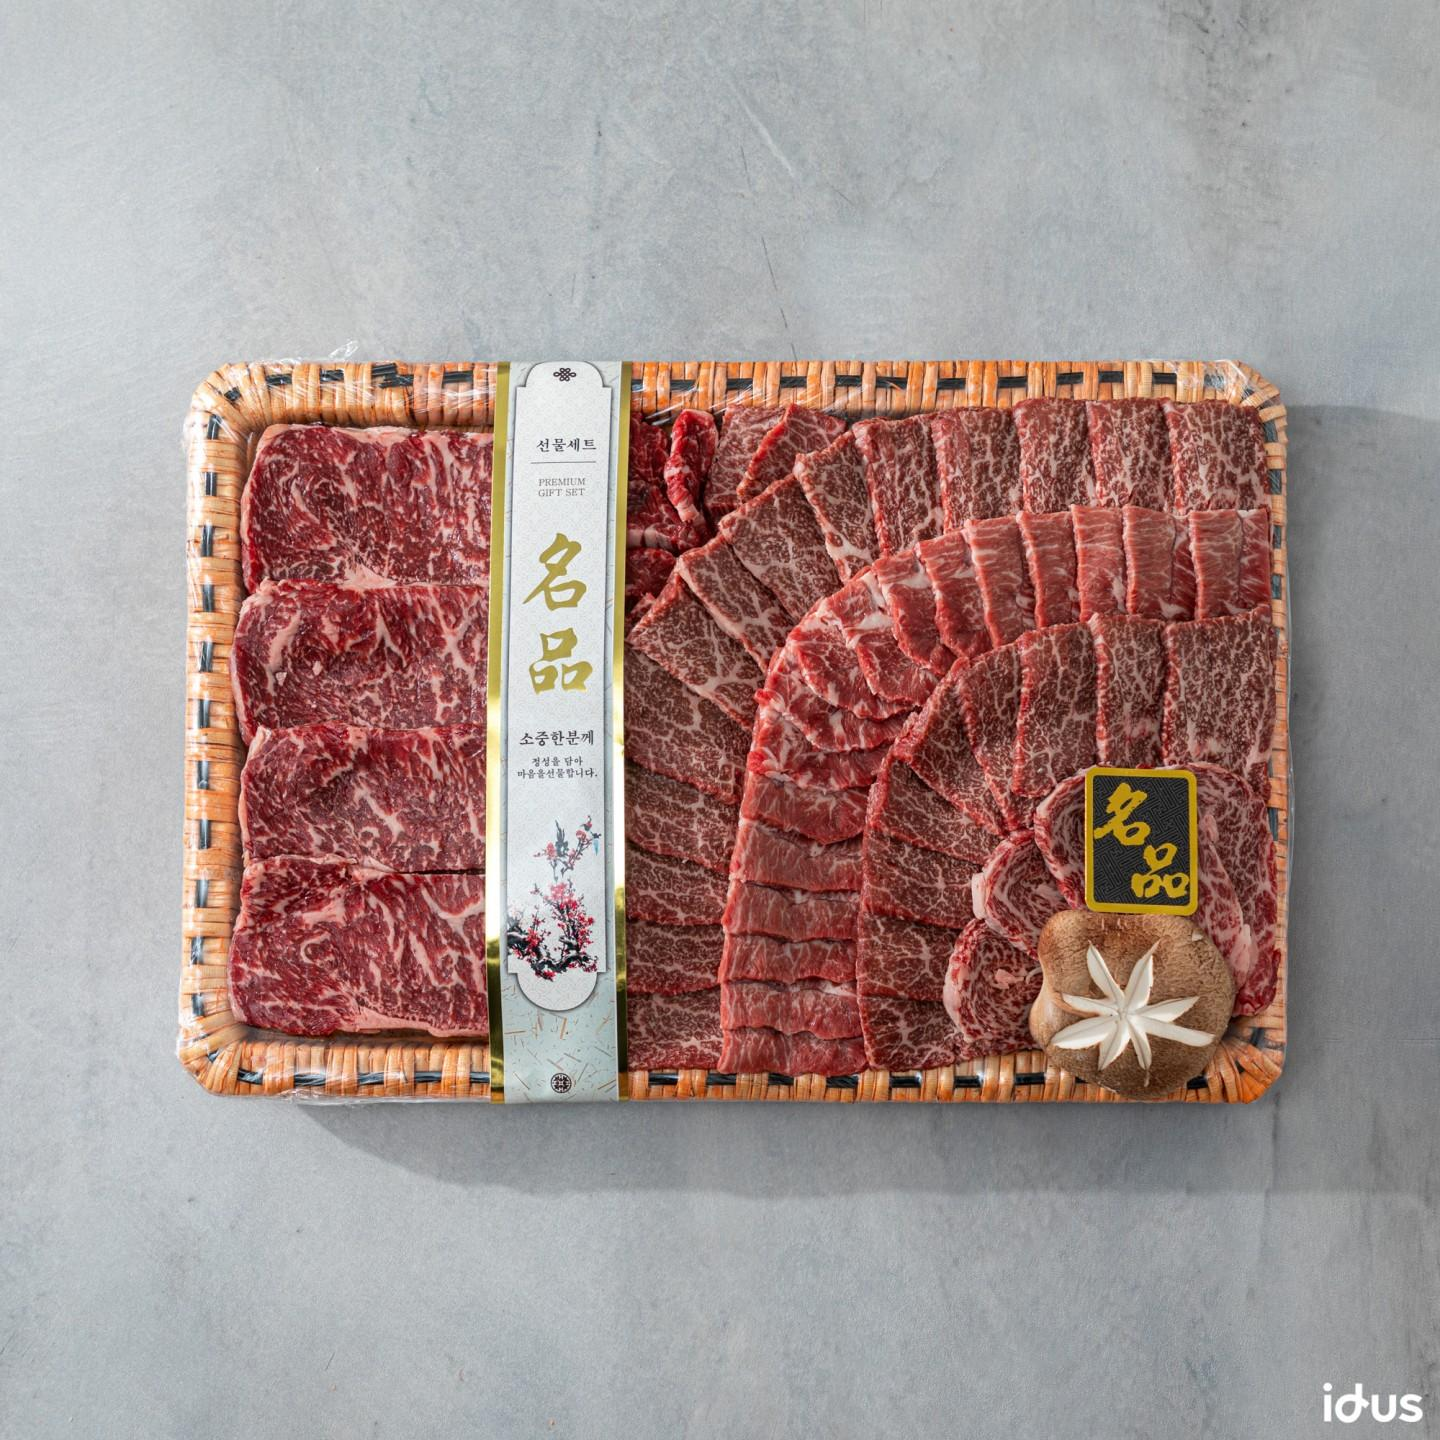beef: (737, 720, 1440, 1440), (509, 745, 1112, 1440)
